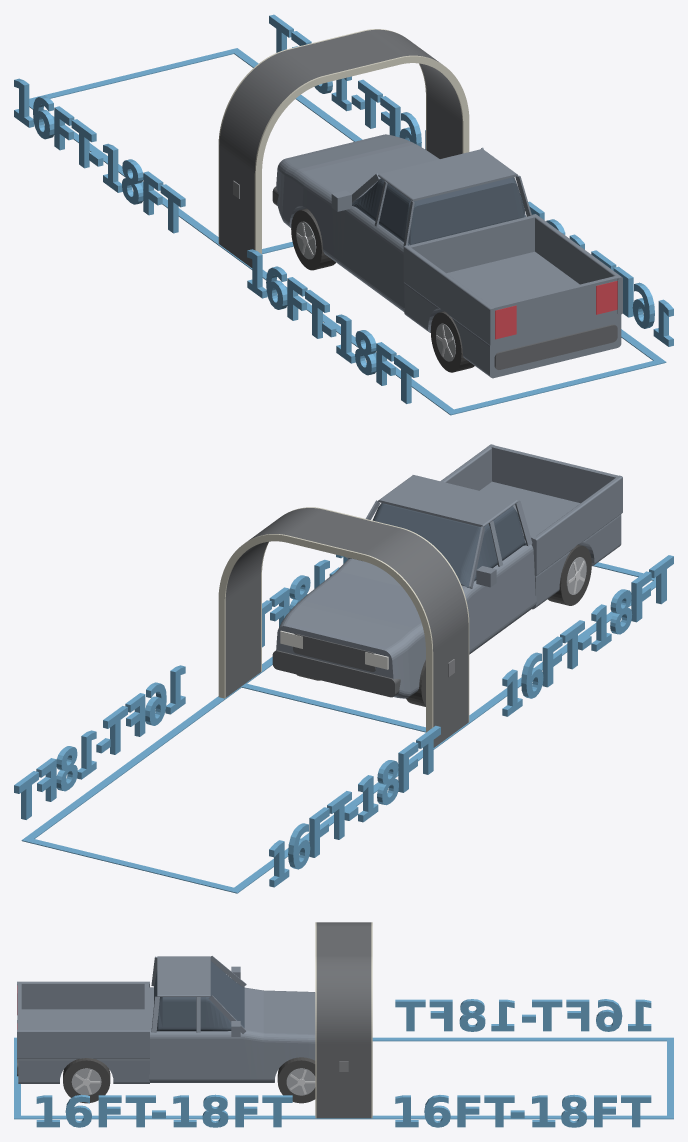
The model's file is colibri-truck.glb.
3 renders of one model, top to bottom at view 1: azimuth 30°, elevation 25°; view 2: azimuth 150°, elevation 25°; view 3: azimuth 270°, elevation 25°, orthographic. The views are drawn at different scales.
Visible parts, largest first — view 1: vehicle_body, arch_shell, vehicle_glass, label_far_end_other_side, label_near_end_other_side, vehicle_bed_front, vehicle_roof, vehicle_tailgate, vehicle_bed_wall_l, arch_trim_front, label_far_end, vehicle_bed_wall_r (+11 smaller); view 2: vehicle_body, arch_shell, label_near_end_other_side, label_far_end_other_side, label_far_end, vehicle_glass, vehicle_tailgate, vehicle_roof, arch_trim_back, vehicle_bed_wall_l, vehicle_bumper_front, lane_right (+8 smaller); view 3: vehicle_body, arch_shell, label_far_end_other_side, label_near_end, label_far_end, vehicle_bed_wall_r, vehicle_bed_wall_l, vehicle_glass, lane_right, vehicle_roof, lane_left, vehicle_tire_rear_r (+7 smaller).
Part boxes in pixels (<box>): vehicle_body: <box>276,134,621,378</box>; arch_shell: <box>219,29,462,267</box>; vehicle_glass: <box>352,177,526,245</box>; label_far_end_other_side: <box>14,78,185,233</box>; label_near_end_other_side: <box>247,249,418,403</box>; vehicle_bed_front: <box>404,215,538,281</box>; vehicle_roof: <box>378,149,517,201</box>; vehicle_tailgate: <box>487,275,618,344</box>; vehicle_bed_wall_l: <box>403,245,494,345</box>; arch_trim_front: <box>254,55,469,253</box>; label_far_end: <box>269,14,425,149</box>; vehicle_bed_wall_r: <box>532,214,622,314</box>; vehicle_body: <box>276,481,621,698</box>; arch_shell: <box>225,508,468,747</box>; label_near_end_other_side: <box>502,555,673,716</box>; label_far_end_other_side: <box>269,725,440,887</box>; label_far_end: <box>14,665,185,819</box>; vehicle_glass: <box>348,503,526,587</box>; vehicle_tailgate: <box>489,444,622,514</box>; vehicle_roof: <box>378,475,517,526</box>; arch_trim_back: <box>218,534,433,732</box>; vehicle_bed_wall_l: <box>531,475,622,575</box>; vehicle_bumper_front: <box>272,650,400,697</box>; lane_right: <box>21,656,272,842</box>; vehicle_body: <box>18,987,315,1083</box>; arch_shell: <box>316,922,371,1118</box>; label_far_end_other_side: <box>395,999,651,1031</box>; label_near_end: <box>36,1094,292,1127</box>; label_far_end: <box>395,1094,651,1127</box>; vehicle_bed_wall_r: <box>17,1029,149,1059</box>; vehicle_bed_wall_l: <box>17,981,149,1009</box>; vehicle_glass: <box>154,961,244,1031</box>; lane_right: <box>14,1115,673,1119</box>; vehicle_roof: <box>157,956,210,996</box>; lane_left: <box>14,1037,673,1041</box>; vehicle_tire_rear_r: <box>63,1058,110,1103</box>.
Size of the model in its own units: 3.98 by 2.61 by 11.35.
